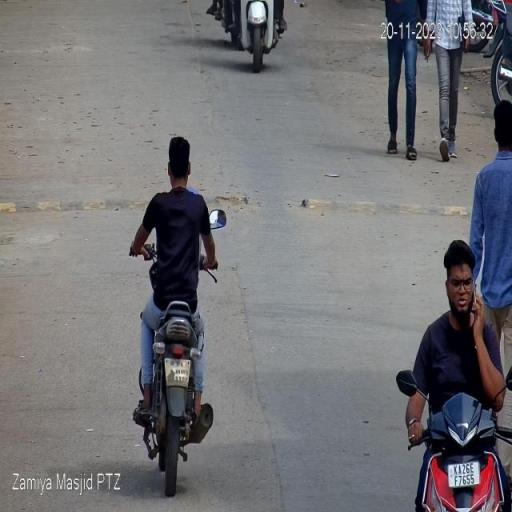using mobile: (470, 265, 482, 331)
